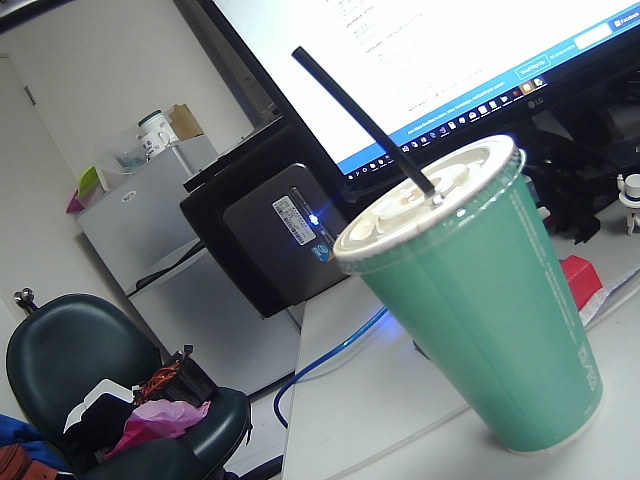beverage: (277, 36, 628, 457)
